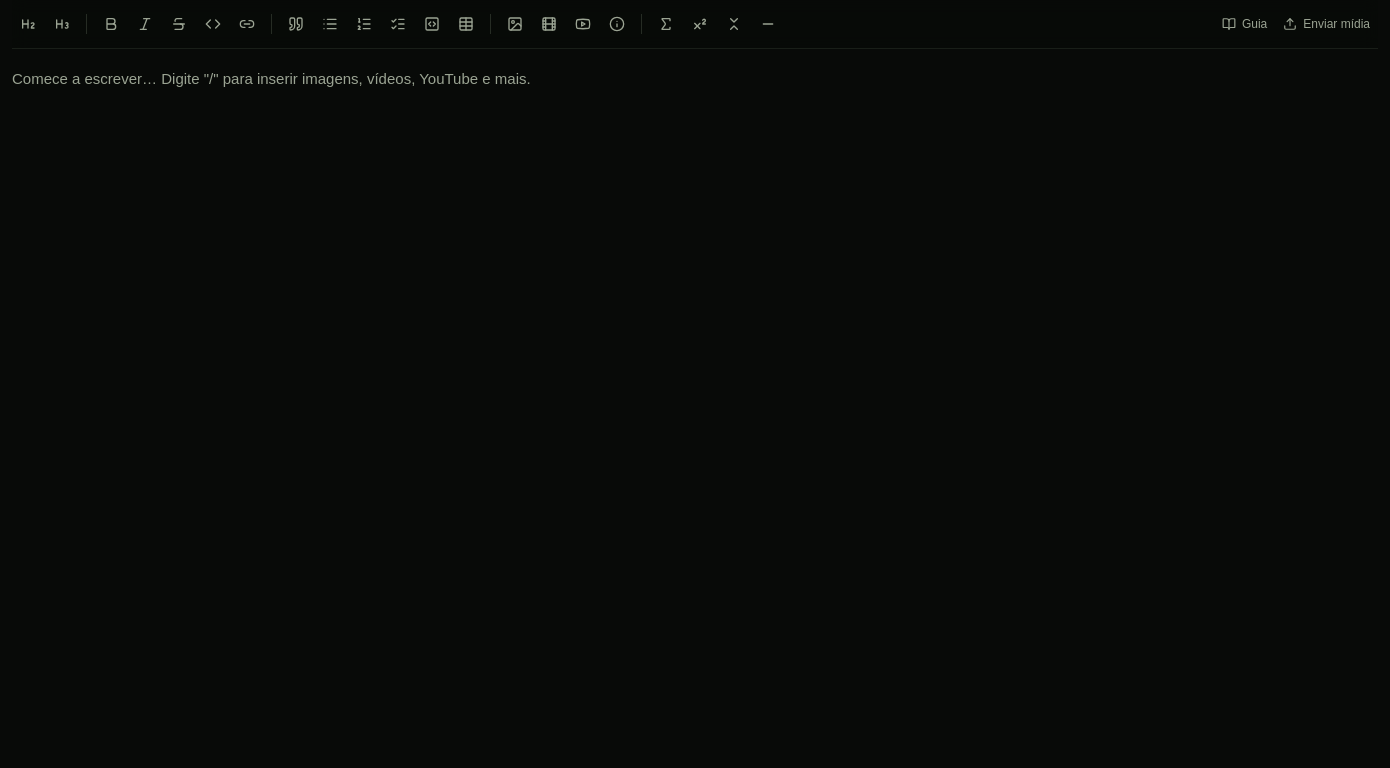
menu "/" › setas mudam a opção; mídia vai para a janela de mídia
Replace the text in the text box named "Conteúdo do post em Markdown" with "/" at (695, 295), box [12, 65, 1378, 526]
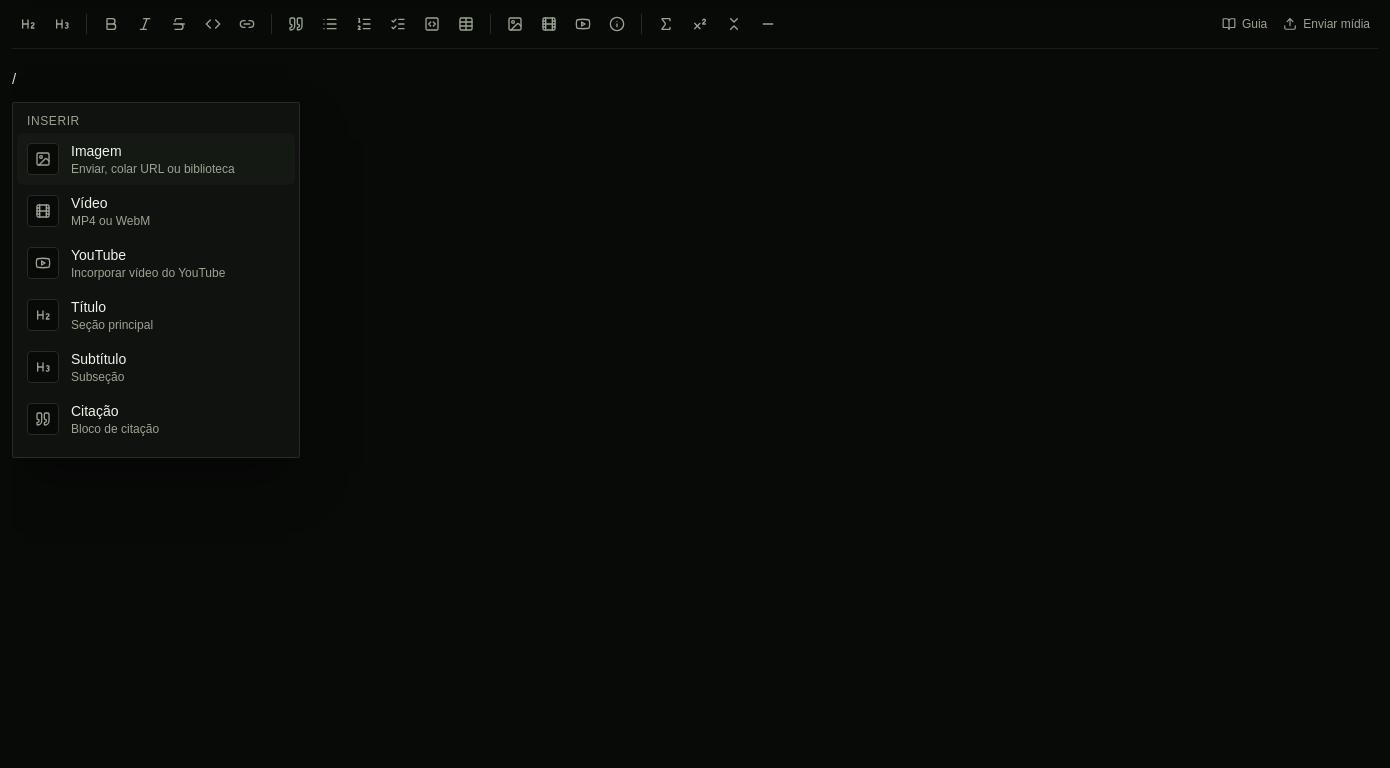
Press ArrowDown in the text box named "Conteúdo do post em Markdown", box [12, 65, 1378, 526]
Press Enter in the text box named "Conteúdo do post em Markdown", box [12, 65, 1378, 526]
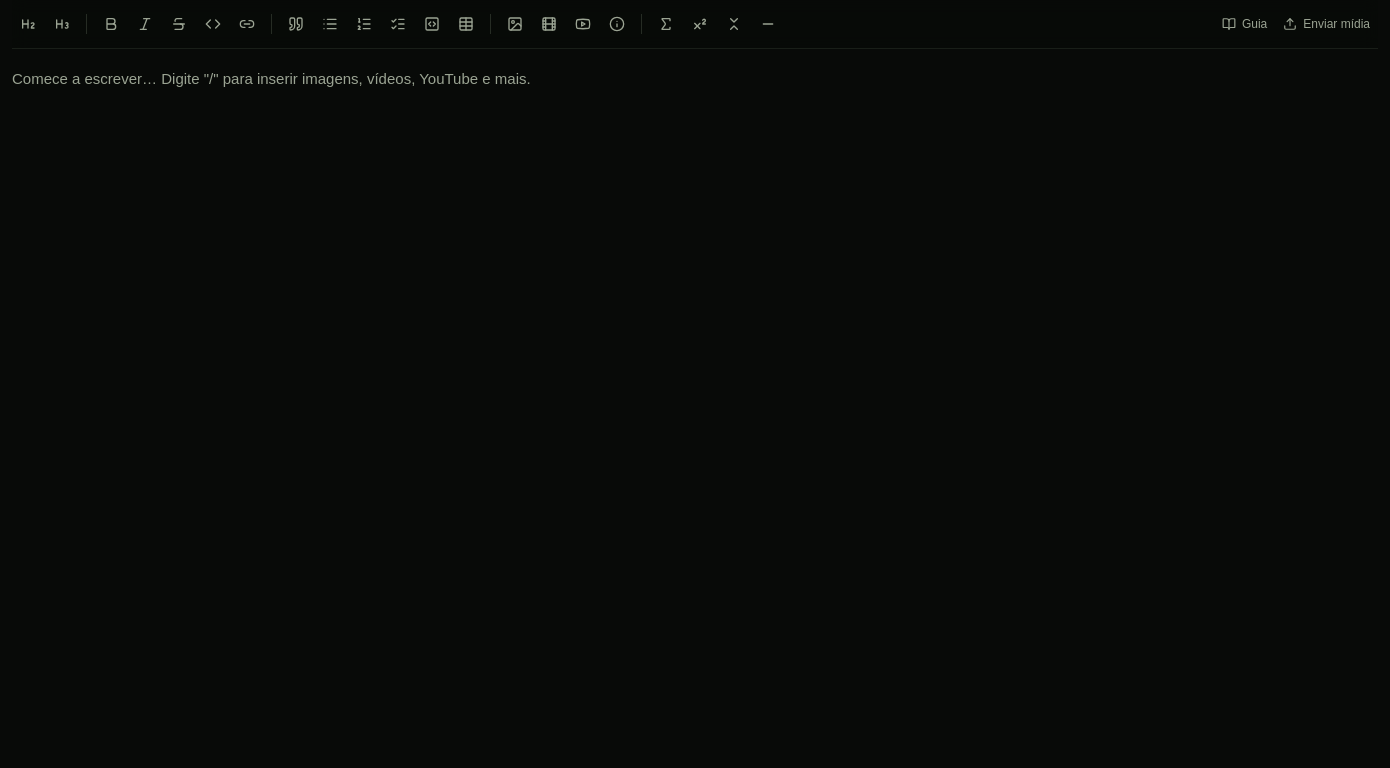
Now the text box named "Conteúdo do post em Markdown" is empty, box [12, 65, 1378, 526]
